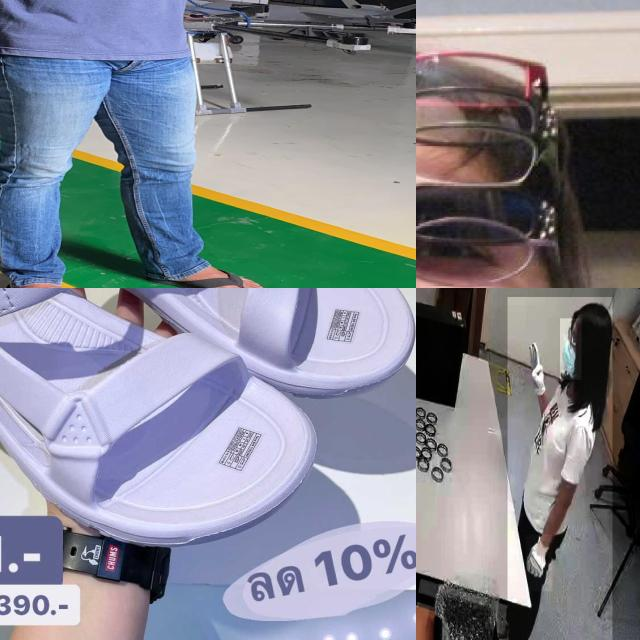Sandals: (0, 288, 416, 559)
face_mask: (560, 318, 582, 380)
glasses: (416, 112, 543, 192), (416, 86, 548, 160), (416, 55, 557, 120), (416, 176, 553, 236)
hand_glove: (526, 335, 548, 410), (526, 534, 553, 592)
head_nohelmet: (569, 302, 611, 331)
person: (0, 0, 341, 288), (507, 297, 612, 640)
